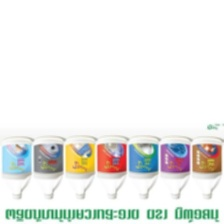cleaning_solution: (125, 133, 162, 201), (0, 134, 35, 202), (30, 134, 66, 200), (62, 134, 97, 201), (94, 133, 128, 200), (189, 135, 223, 202), (157, 134, 191, 200)
